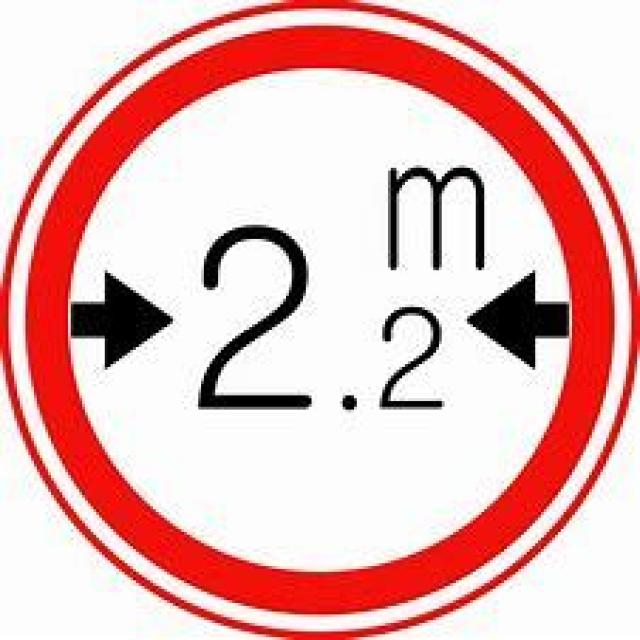do_not_u_turn: (22, 23, 612, 606)
